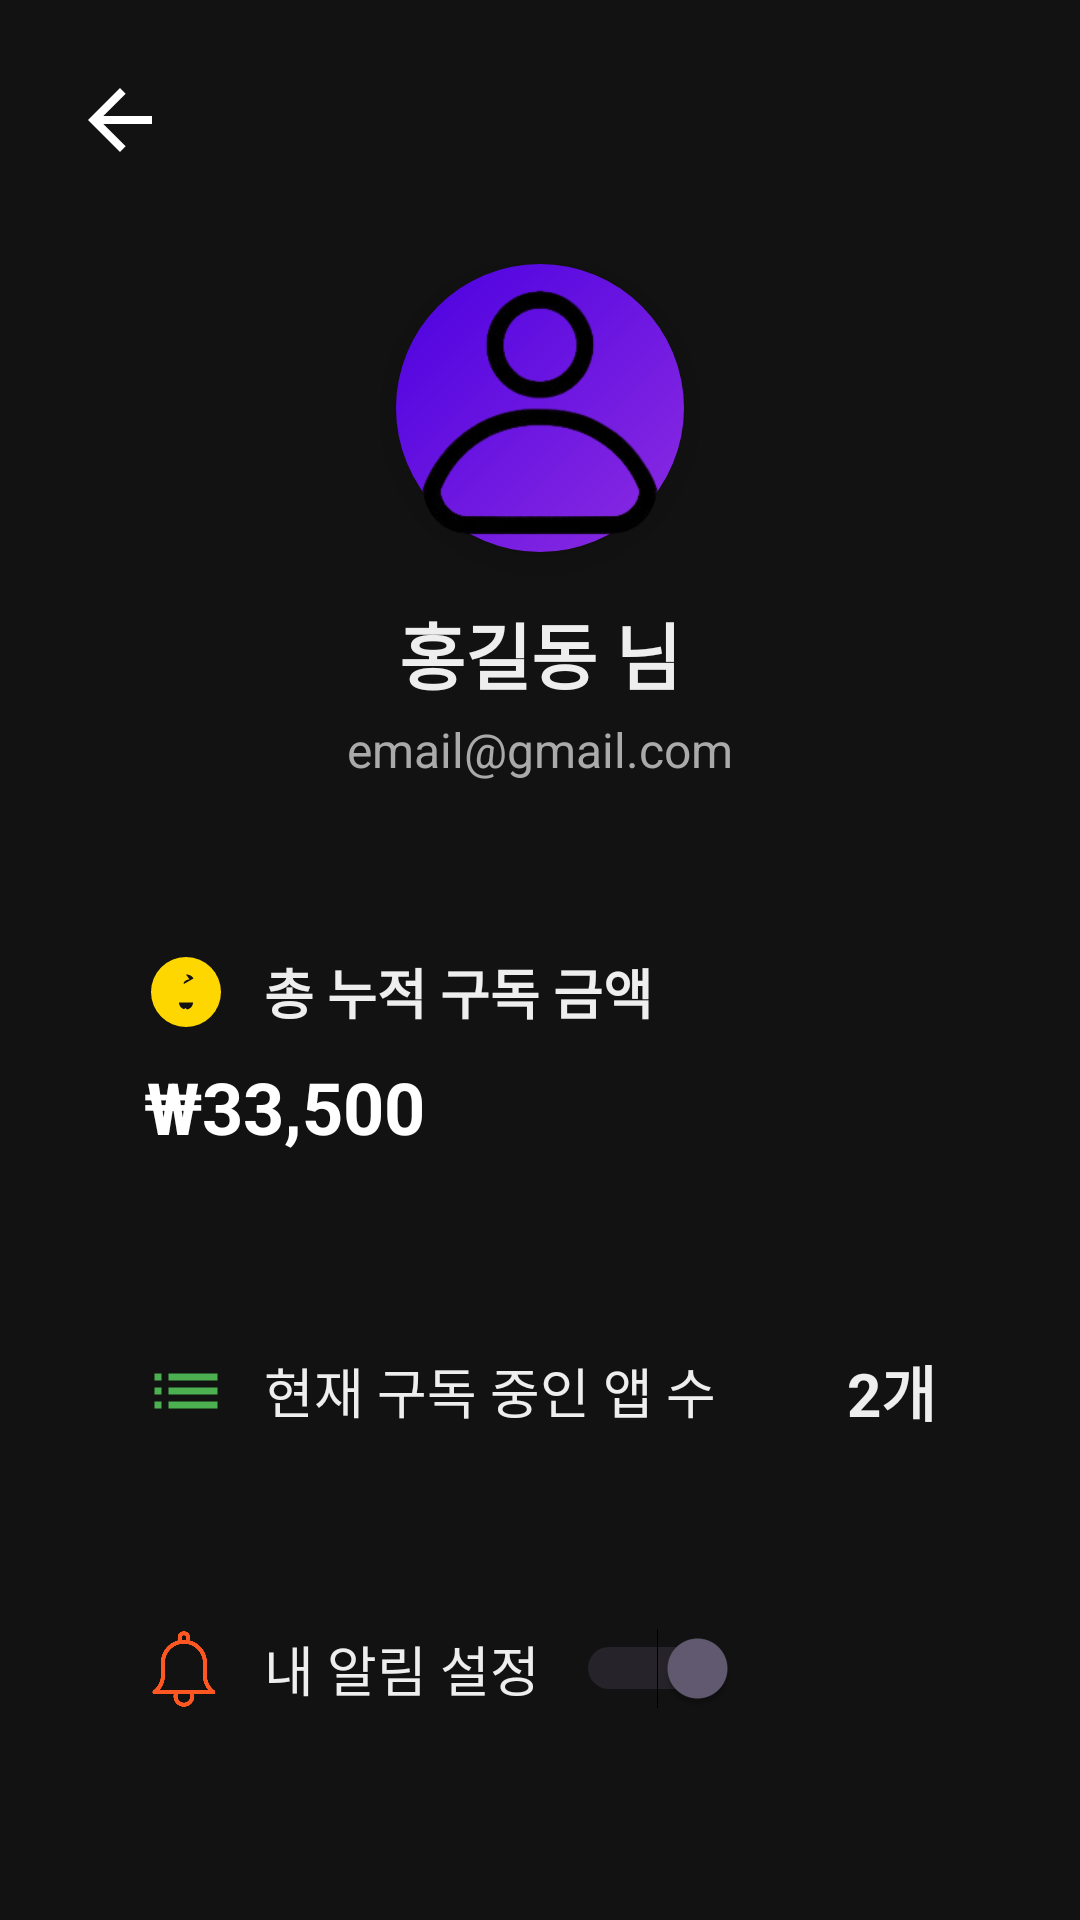

Locate icon controls on the screen. Image size 1080 × 1920, boxes as (x1, y1, x2, y2).
뒤로가기: (88, 88, 152, 152)
프로필: (396, 264, 684, 552)
